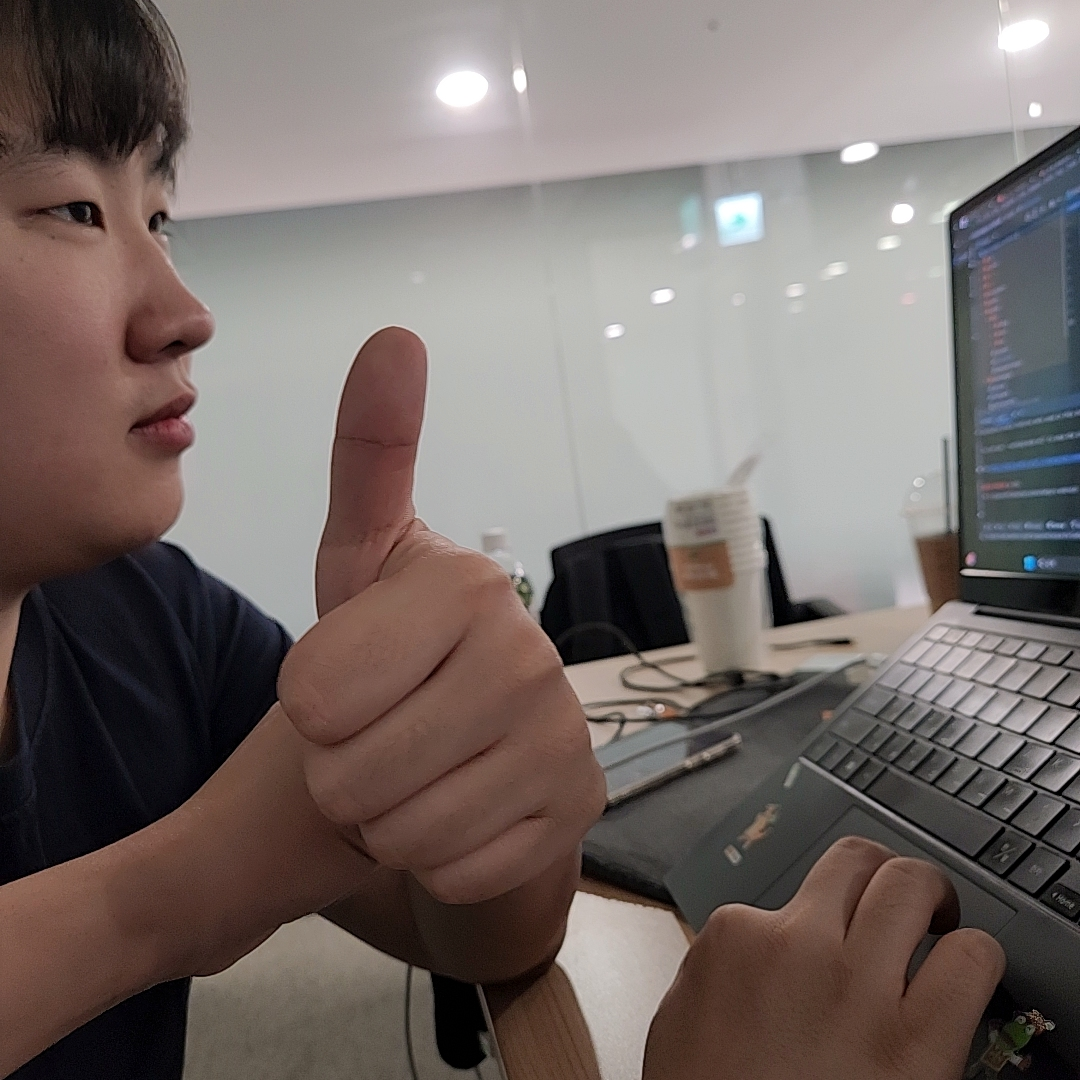best: (278, 327, 604, 907)
